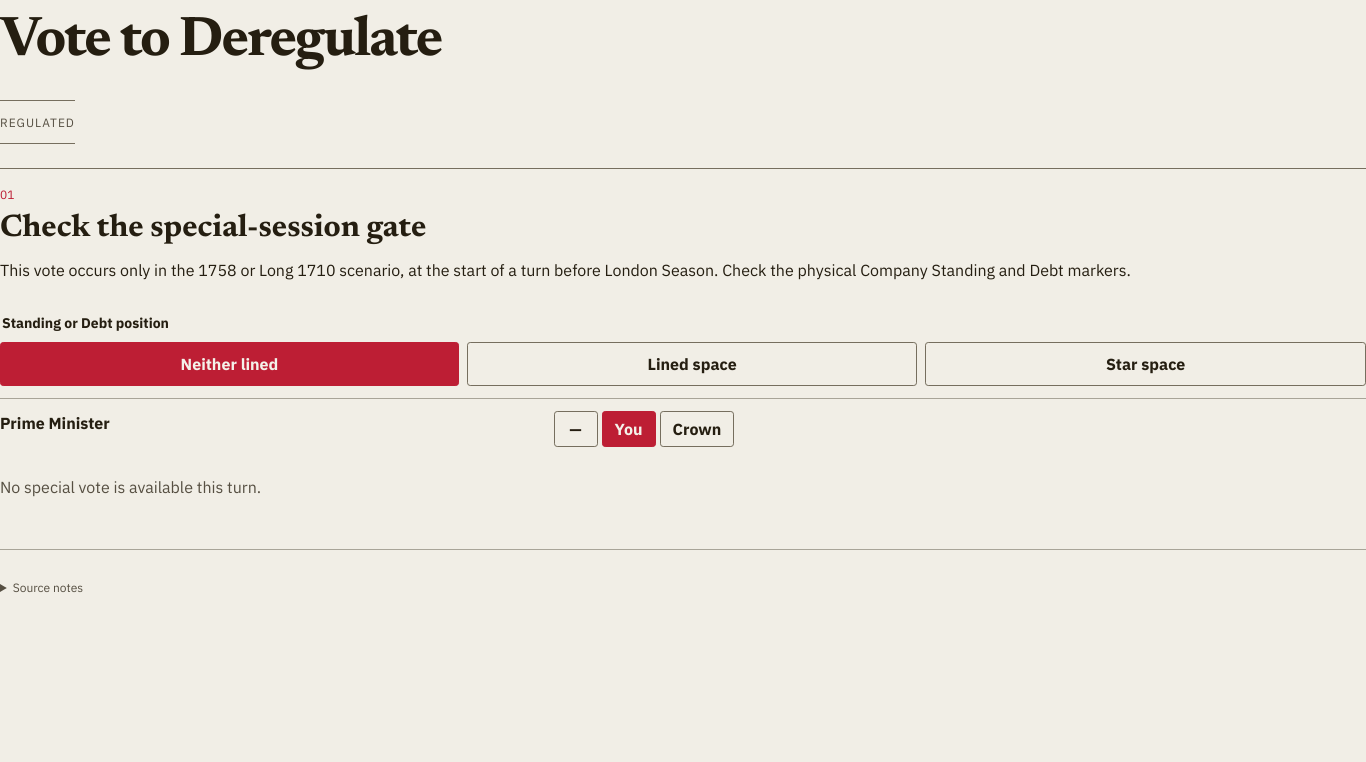
Vote to Deregulate › activates Deregulation only on a passed vote and shows the sourced consequences
Step 1. Click the button "Lined space" → (692, 364), box [467,342,917,386]
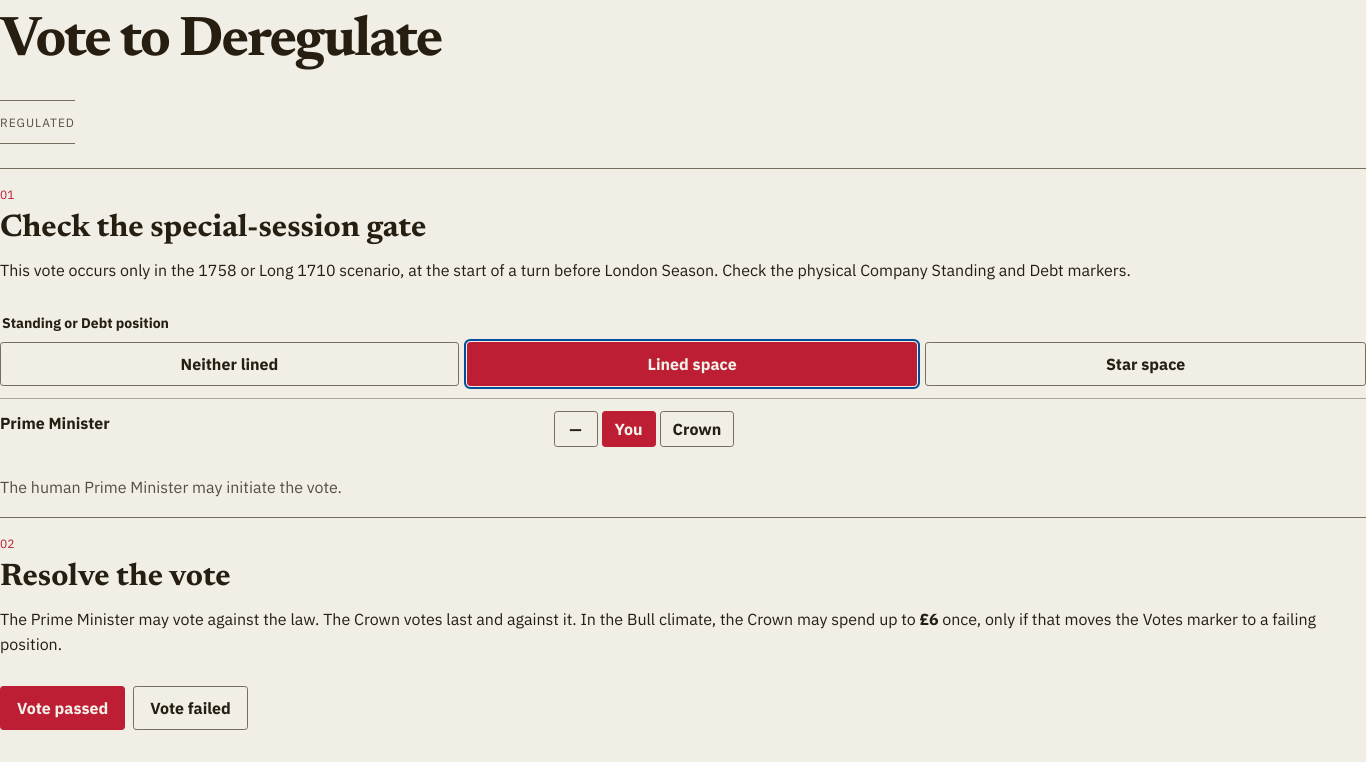
Step 2. Click the button "Vote failed" → (190, 708), box [133,686,248,730]
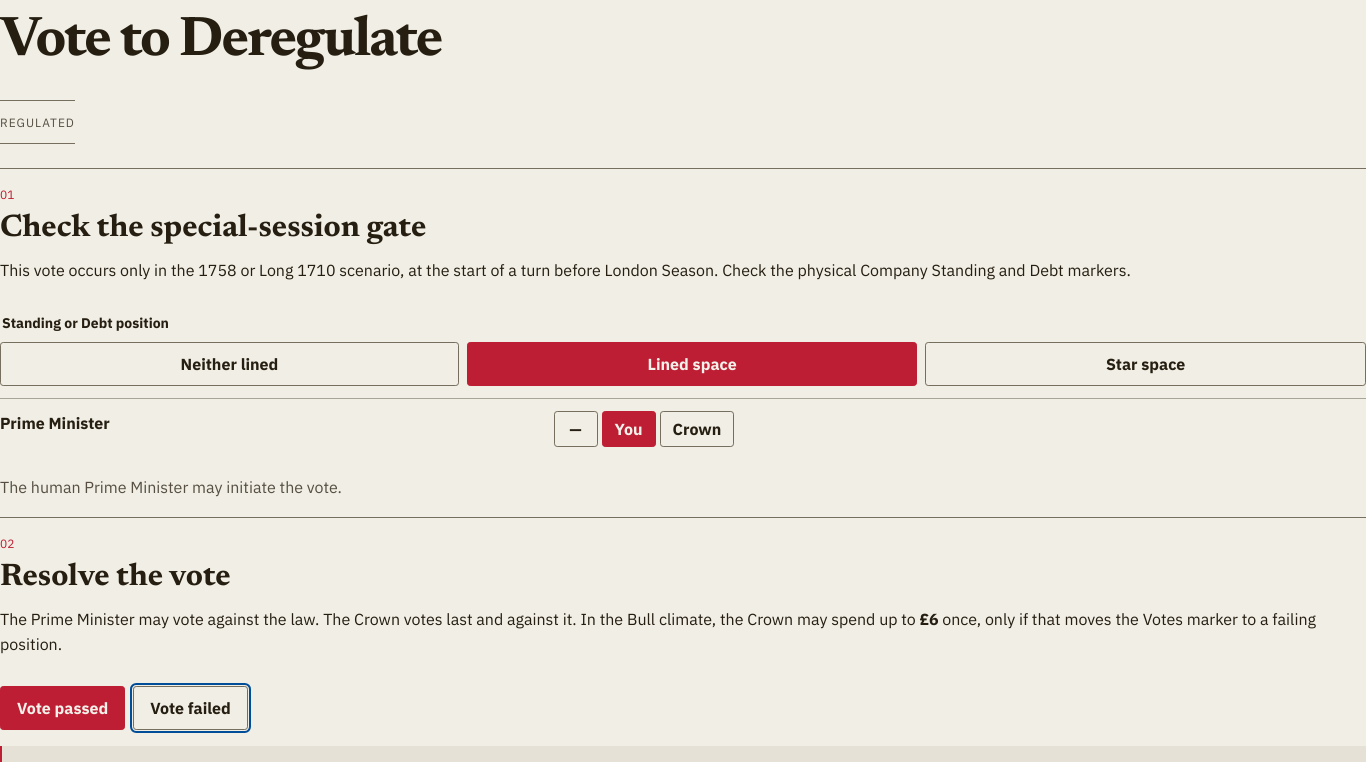
Step 3. Click the button "Vote passed" → (63, 708), box [0,686,125,730]
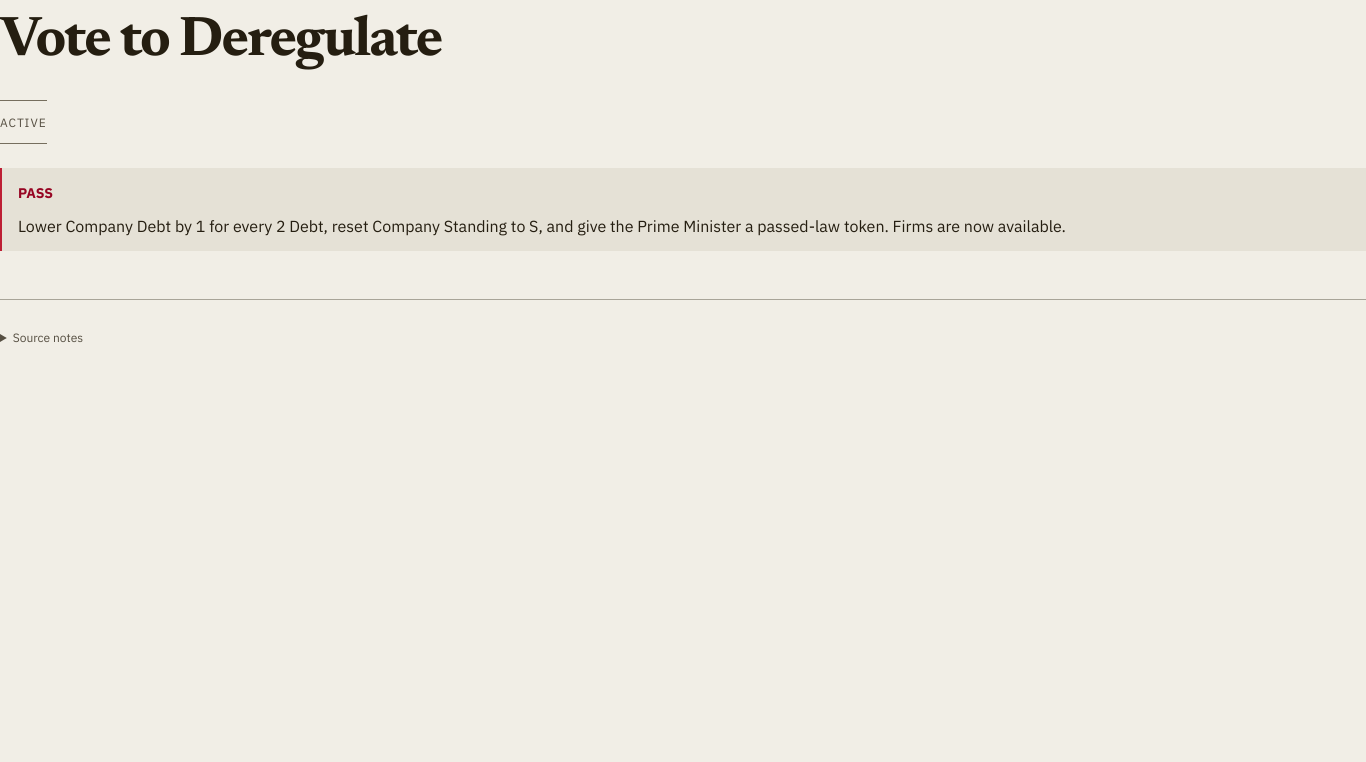
Check: the text "reset Company Standing to S" is shown, box [18,216,1066,236]
